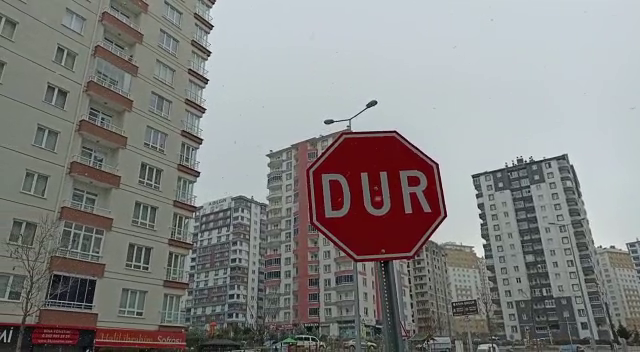stop: (302, 128, 452, 265)
